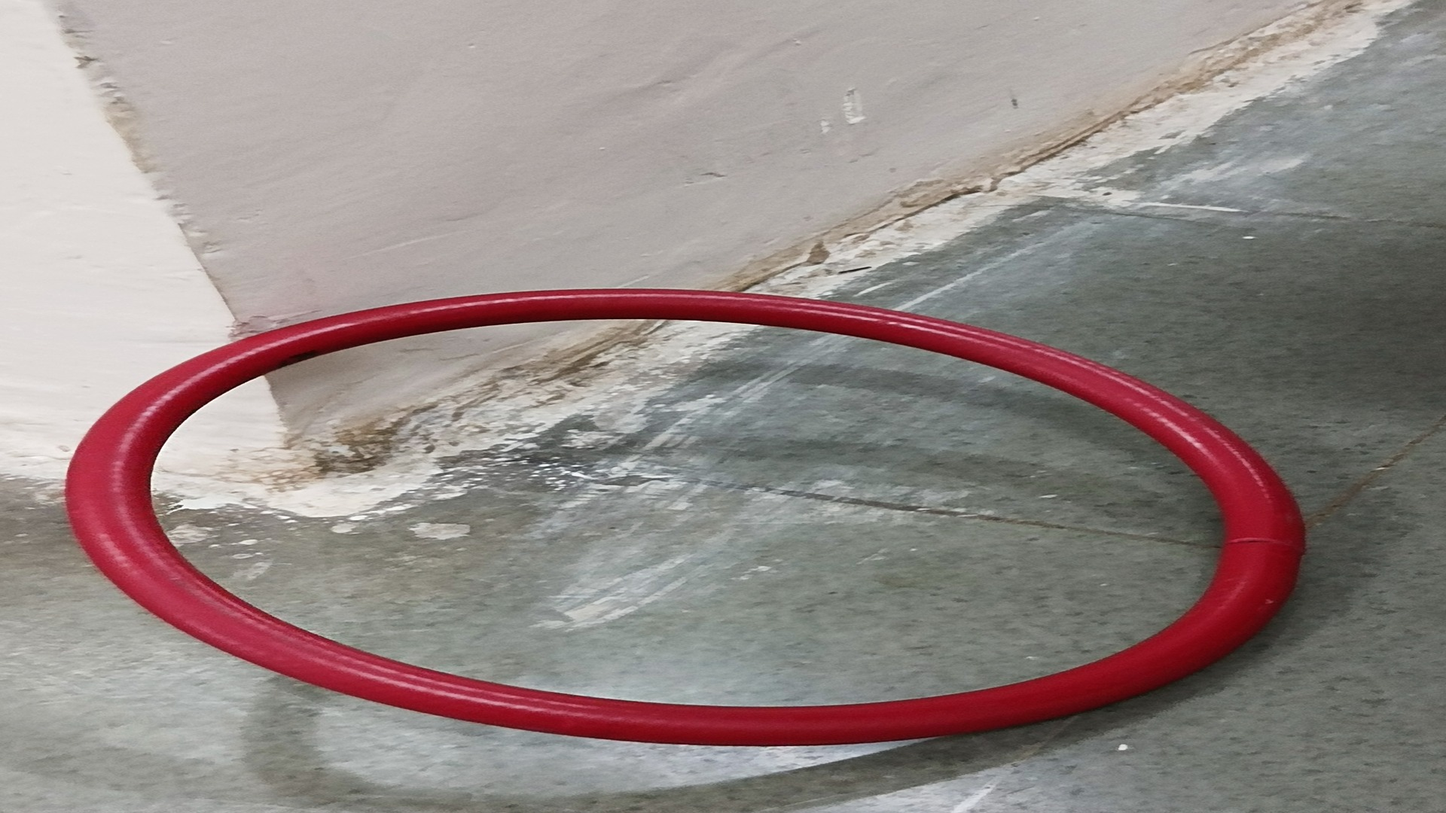Red ring: (66, 288, 1301, 744)
